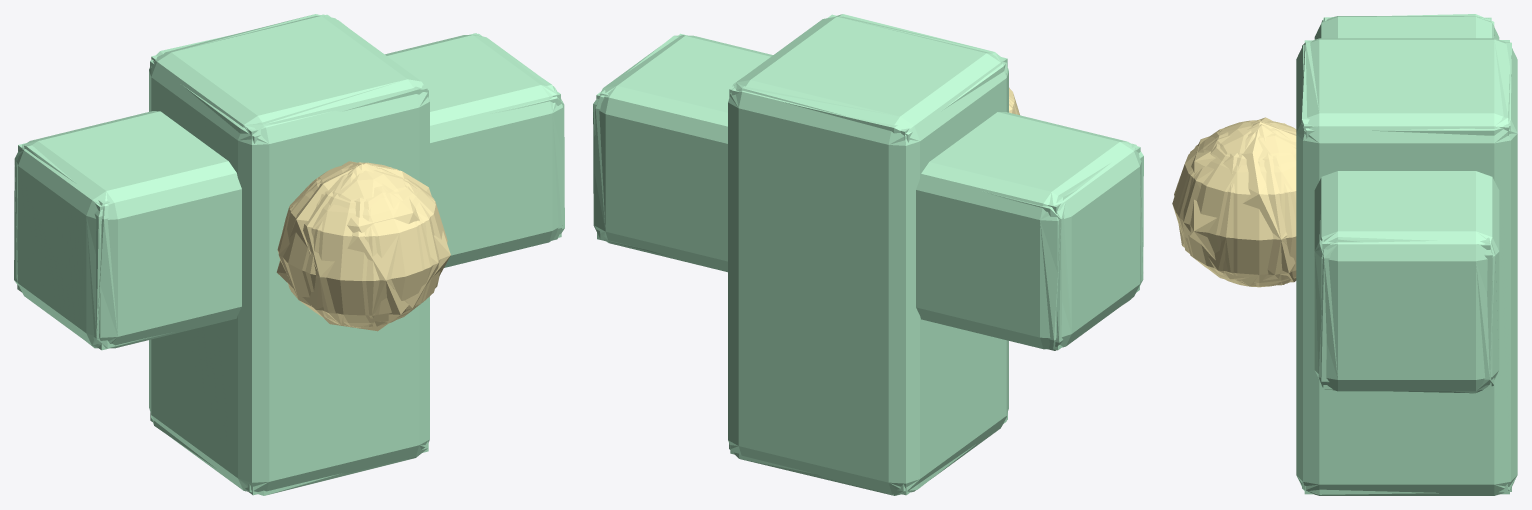
File: SM_Healer.fbx
The picture shows the model from 3 angles, left to right: view 1: azimuth 30°, elevation 25°; view 2: azimuth 150°, elevation 25°; view 3: azimuth 270°, elevation 25°; orthographic projection.
Visible parts, largest first — view 1: SM_Healer, LOD1_SM_Healer, LOD2_SM_Healer, LOD3_SM_Healer; view 2: SM_Healer, LOD1_SM_Healer, LOD2_SM_Healer; view 3: SM_Healer, LOD1_SM_Healer, LOD2_SM_Healer, LOD3_SM_Healer.
Part boxes in pixels (x1=…): SM_Healer: x1=16, y1=16, x2=563, y2=491; LOD1_SM_Healer: x1=14, y1=14, x2=564, y2=491; LOD2_SM_Healer: x1=14, y1=14, x2=564, y2=495; LOD3_SM_Healer: x1=17, y1=14, x2=561, y2=495; SM_Healer: x1=594, y1=17, x2=1141, y2=494; LOD1_SM_Healer: x1=593, y1=16, x2=1143, y2=495; LOD2_SM_Healer: x1=593, y1=14, x2=1143, y2=495; SM_Healer: x1=1172, y1=16, x2=1517, y2=495; LOD1_SM_Healer: x1=1177, y1=16, x2=1517, y2=495; LOD2_SM_Healer: x1=1174, y1=14, x2=1511, y2=494; LOD3_SM_Healer: x1=1178, y1=17, x2=1509, y2=494.
Size of the model in its own units: 0.27 by 0.2052 by 0.1684.
